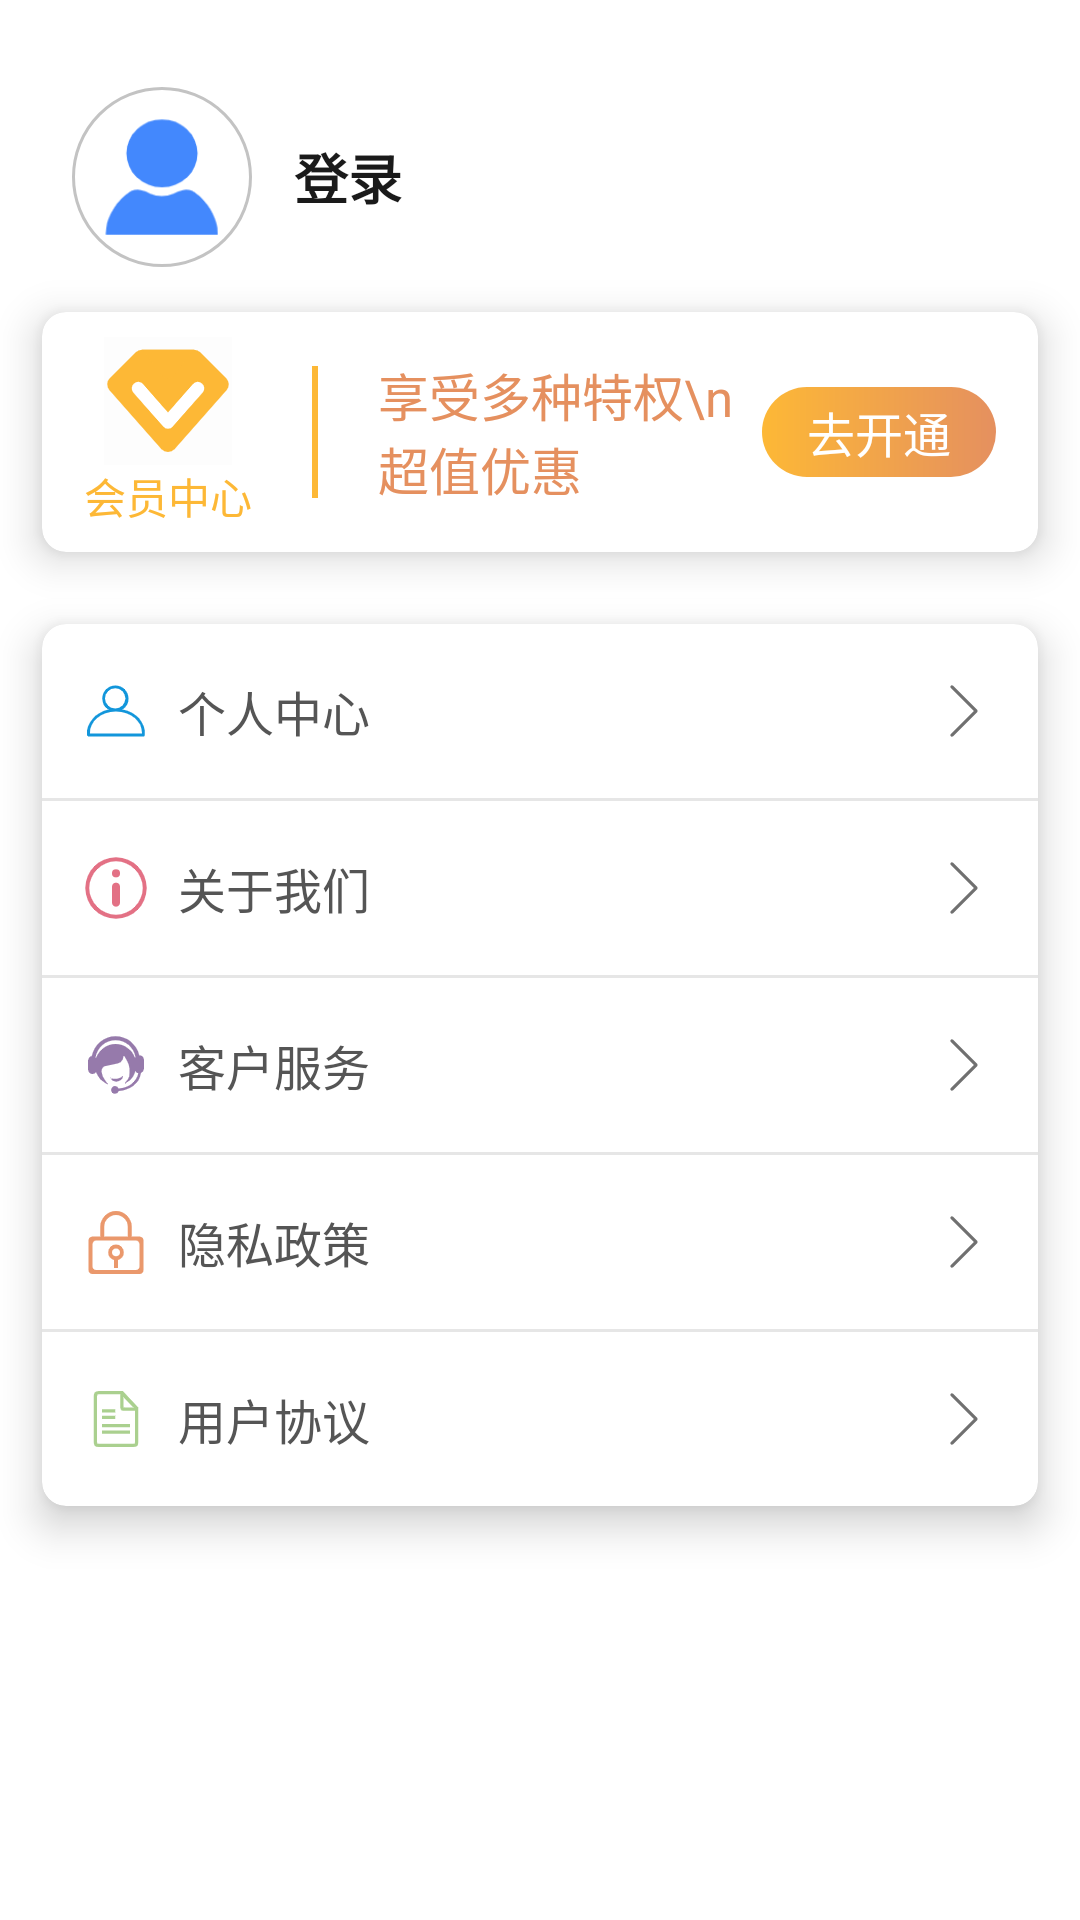

Where icons sit on this 1080w x 1920h app screen, as {"left": x1, "top": y1, "right": x2, "bottom": y2}:
arrow right: {"left": 950, "top": 685, "right": 978, "bottom": 737}, {"left": 950, "top": 862, "right": 978, "bottom": 914}, {"left": 950, "top": 1039, "right": 978, "bottom": 1091}, {"left": 950, "top": 1216, "right": 978, "bottom": 1268}, {"left": 950, "top": 1393, "right": 978, "bottom": 1445}
user head: {"left": 72, "top": 87, "right": 252, "bottom": 267}
